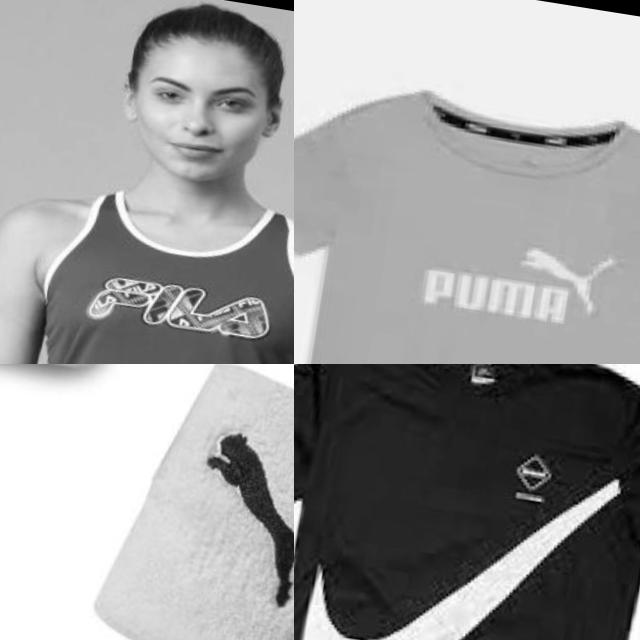FILA_original: (62, 241, 294, 364)
NIKE_fake: (294, 404, 632, 640)
PUMA_original: (394, 212, 636, 358), (174, 411, 294, 640)
